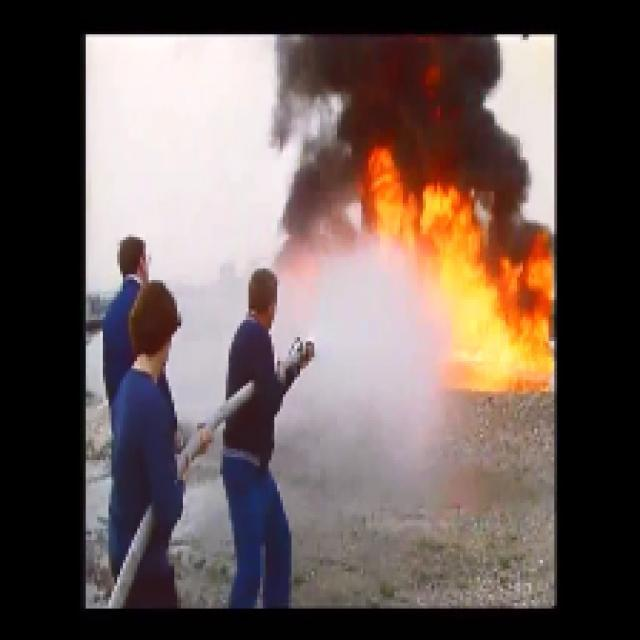Fire: (375, 188, 469, 259)
Smoke: (319, 41, 507, 166)
